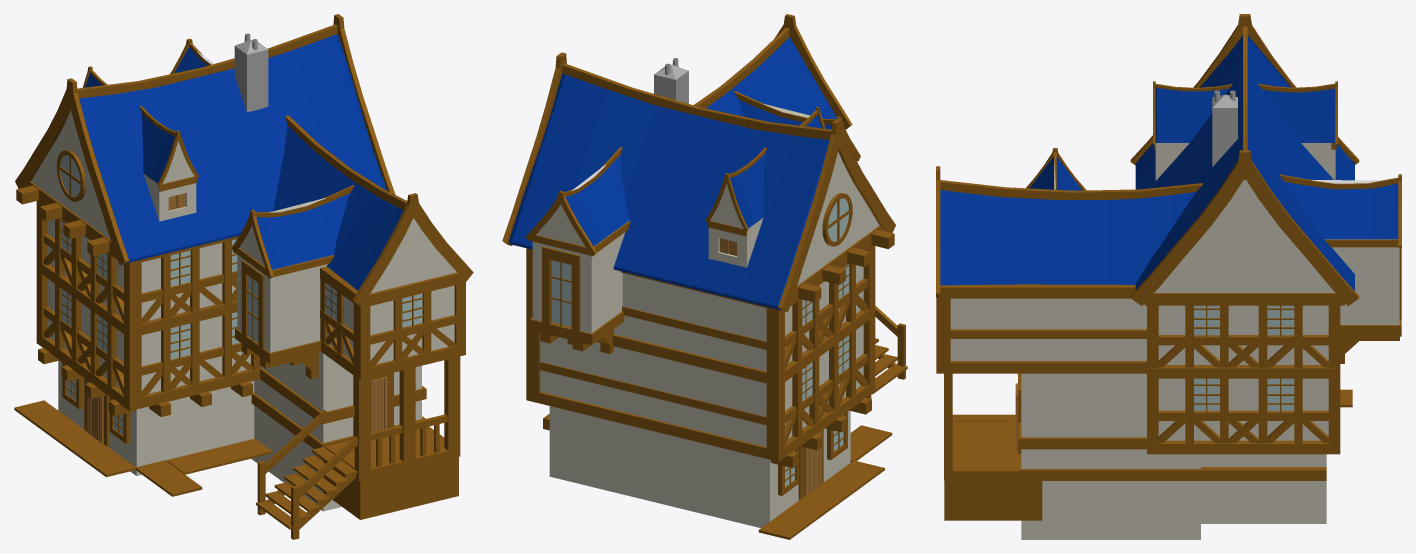
The model's file is housef.fbx.
3 renders of one model, left to right at view 1: azimuth 30°, elevation 25°; view 2: azimuth 150°, elevation 25°; view 3: azimuth 270°, elevation 25°, orthographic. The views are drawn at different scales.
Visible parts, largest first — view 1: houseD1; view 2: houseD1; view 3: houseD1.
Boxes of the visible parts, <box> form: houseD1: <box>14,14,473,539</box>; houseD1: <box>502,14,907,539</box>; houseD1: <box>936,14,1401,539</box>.
Size of the model in its own units: 22.2 by 29.34 by 30.13.
